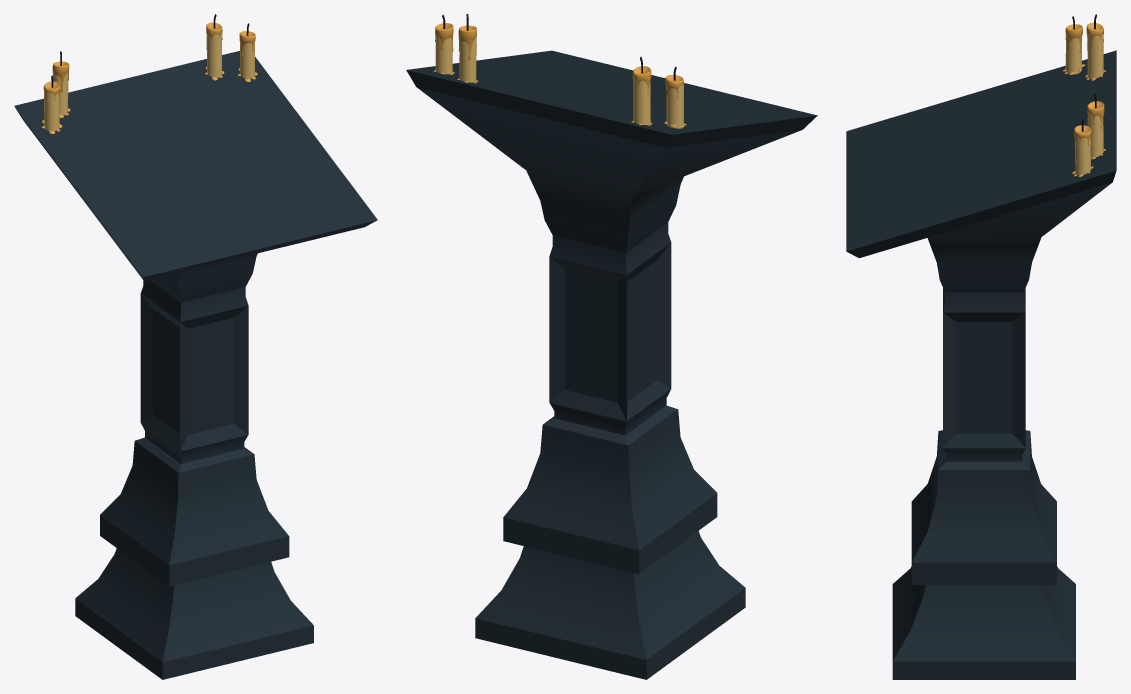
Rendered from AtrilFinal.fbx.
3 renders of one model, left to right at view 1: azimuth 30°, elevation 25°; view 2: azimuth 150°, elevation 25°; view 3: azimuth 270°, elevation 25°, orthographic. The views are drawn at different scales.
Visible parts, largest first — view 1: Atril, AtrilVela; view 2: Atril, AtrilVela; view 3: Atril, AtrilVela.
Part boxes in pixels (x1=…): Atril: x1=14, y1=51, x2=377, y2=679; AtrilVela: x1=42, y1=14, x2=257, y2=133; Atril: x1=406, y1=50, x2=817, y2=679; AtrilVela: x1=433, y1=14, x2=686, y2=128; Atril: x1=846, y1=50, x2=1116, y2=679; AtrilVela: x1=1063, y1=14, x2=1105, y2=176.
Bounding box in the file's own units: 114 × 260 × 108.
